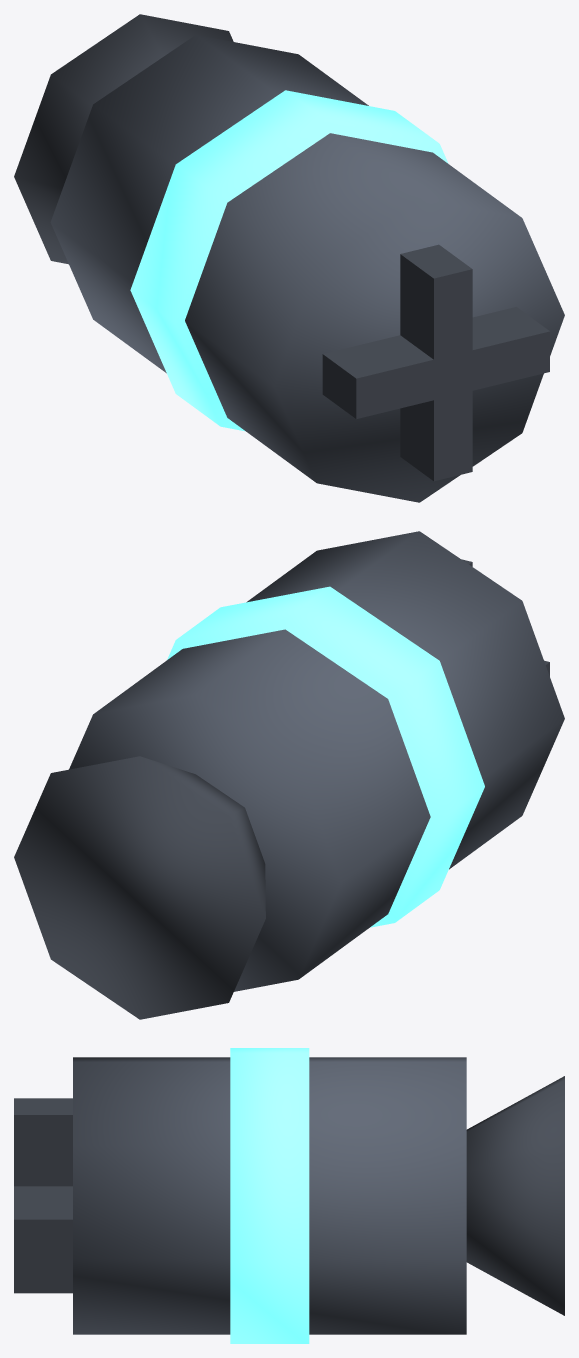
The model's file is dep_grenade.glb.
The picture shows the model from 3 angles, top to bottom: view 1: azimuth 30°, elevation 25°; view 2: azimuth 150°, elevation 25°; view 3: azimuth 270°, elevation 25°; orthographic projection. The views are drawn at different scales.
Visible parts, largest first — view 1: dep_grenade; view 2: dep_grenade; view 3: dep_grenade.
Boxes of the visible parts, x1,y1,x2,y2 form: dep_grenade: (14, 14, 564, 502); dep_grenade: (14, 531, 564, 1019); dep_grenade: (14, 1048, 564, 1343).
Bounding box in the file's own units: 0.16 × 0.16 × 0.28.
